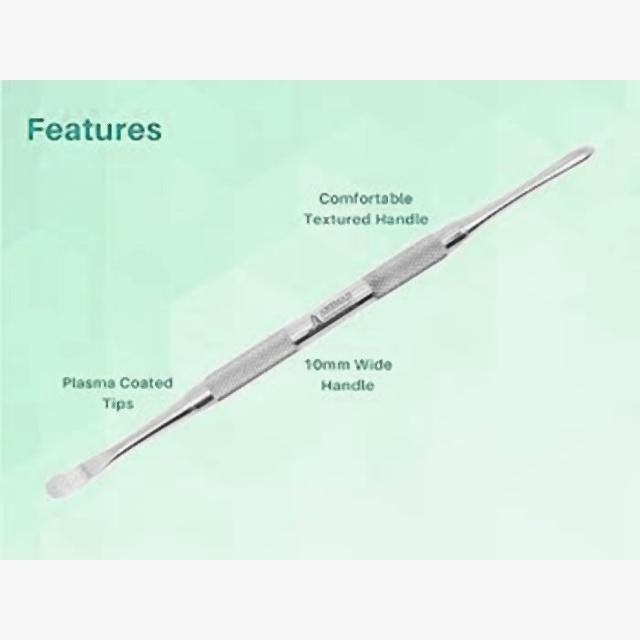elevador: (45, 146, 598, 502)
